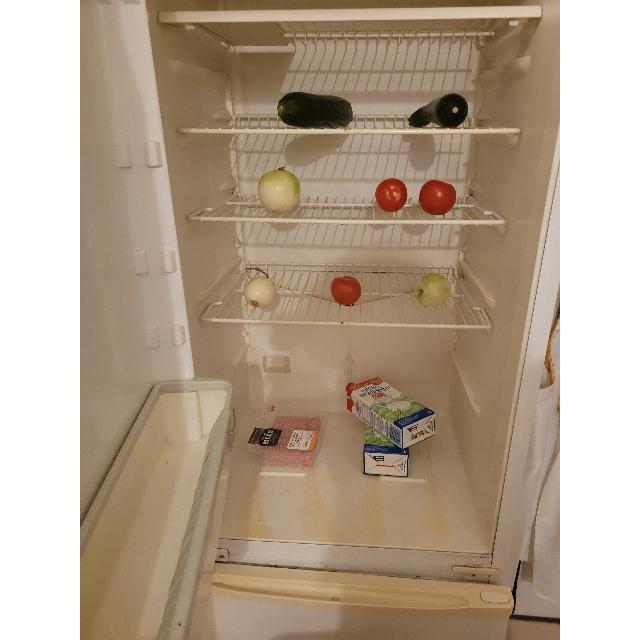meat: (260, 415, 322, 469)
milk: (352, 376, 432, 440), (366, 435, 408, 479)
onion: (257, 165, 301, 212), (414, 273, 450, 307), (244, 276, 276, 308)
tomato: (419, 180, 456, 216), (375, 178, 407, 212), (330, 274, 362, 306)
zucchini: (276, 92, 354, 128), (407, 94, 467, 128)
